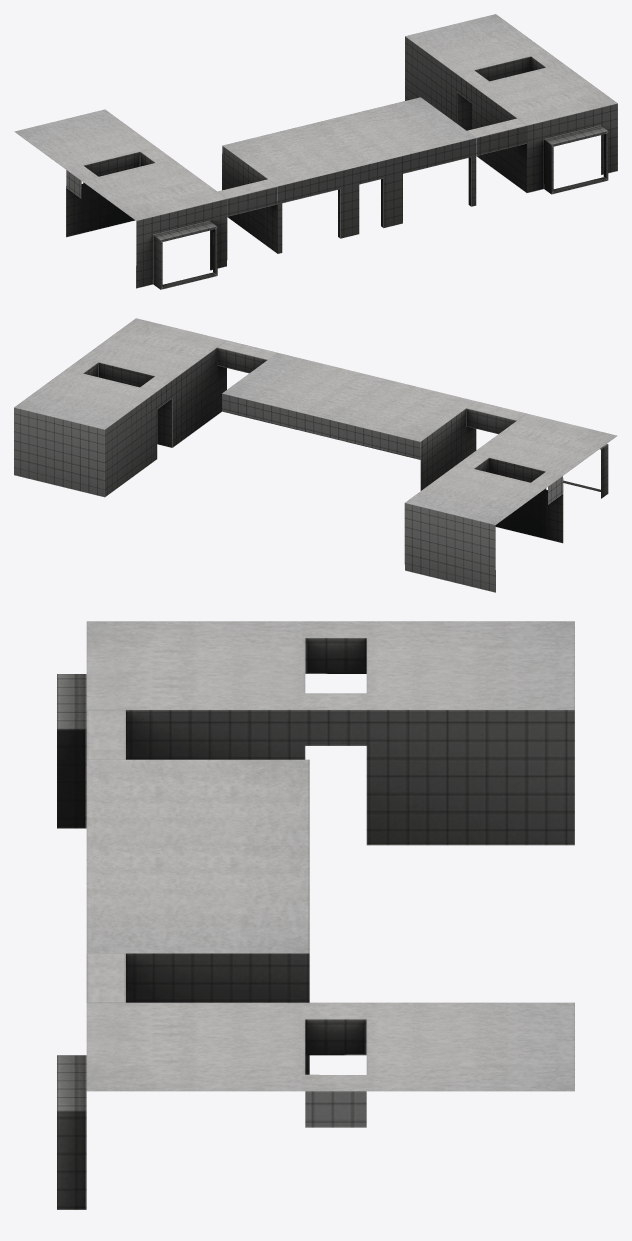
The picture shows the model from 3 angles, top to bottom: view 1: azimuth 30°, elevation 25°; view 2: azimuth 150°, elevation 25°; view 3: azimuth 270°, elevation 25°; orthographic projection. The views are drawn at different scales.
Parts seen in each view (by area): view 1: 1020; view 2: 1020; view 3: 1020.
Boxes of the visible parts, bbox=[...] form: 1020: bbox=[14, 14, 617, 289]; 1020: bbox=[14, 318, 617, 592]; 1020: bbox=[57, 621, 574, 1209].
Bounding box in the file's own units: 112 × 15 × 52.1.
Materials: 1 (1 with a texture image).
